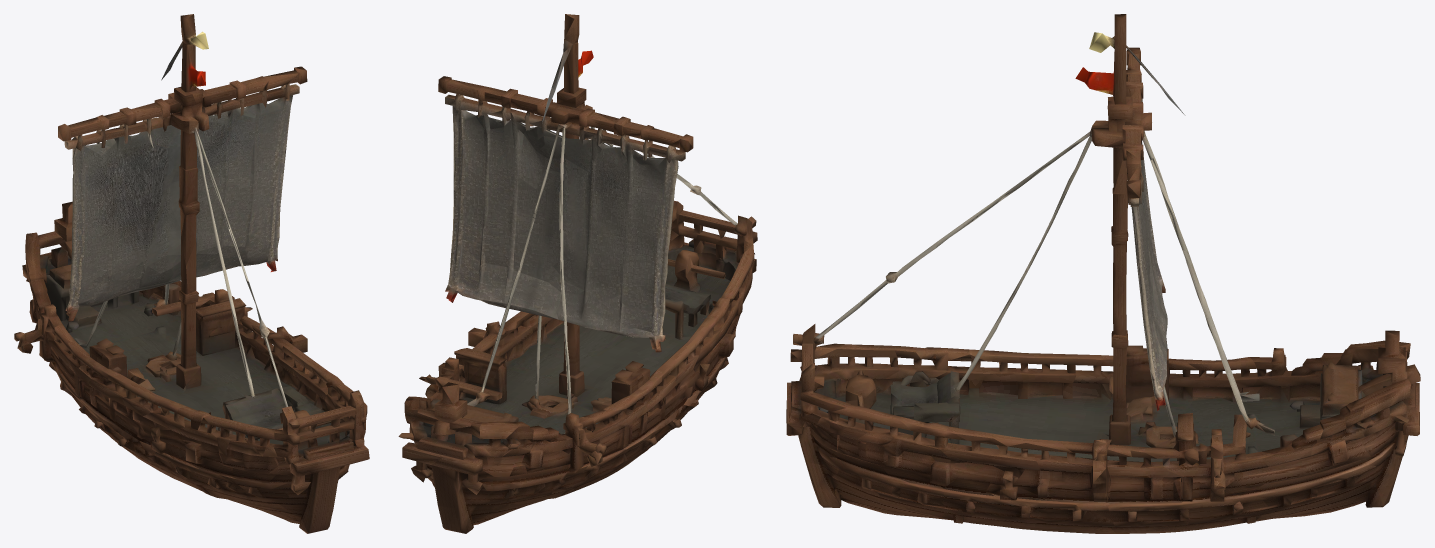
Rendered from fishing.glb.
3 renders of one model, left to right at view 1: azimuth 30°, elevation 25°; view 2: azimuth 150°, elevation 25°; view 3: azimuth 270°, elevation 25°, orthographic. The views are drawn at different scales.
Parts seen in each view (by area): view 1: fishing-hull, fishing-rig; view 2: fishing-hull, fishing-rig; view 3: fishing-hull, fishing-rig.
Boxes of the visible parts, x1=… form: fishing-hull: x1=14, y1=201, x2=369, y2=533; fishing-rig: x1=58, y1=14, x2=307, y2=369; fishing-hull: x1=398, y1=200, x2=757, y2=533; fishing-rig: x1=438, y1=14, x2=715, y2=322; fishing-hull: x1=786, y1=247, x2=1420, y2=533; fishing-rig: x1=858, y1=14, x2=1218, y2=380.
Bounding box in the file's own units: 4.61 × 7.92 × 9.
Materials: 1 (1 with a texture image).
